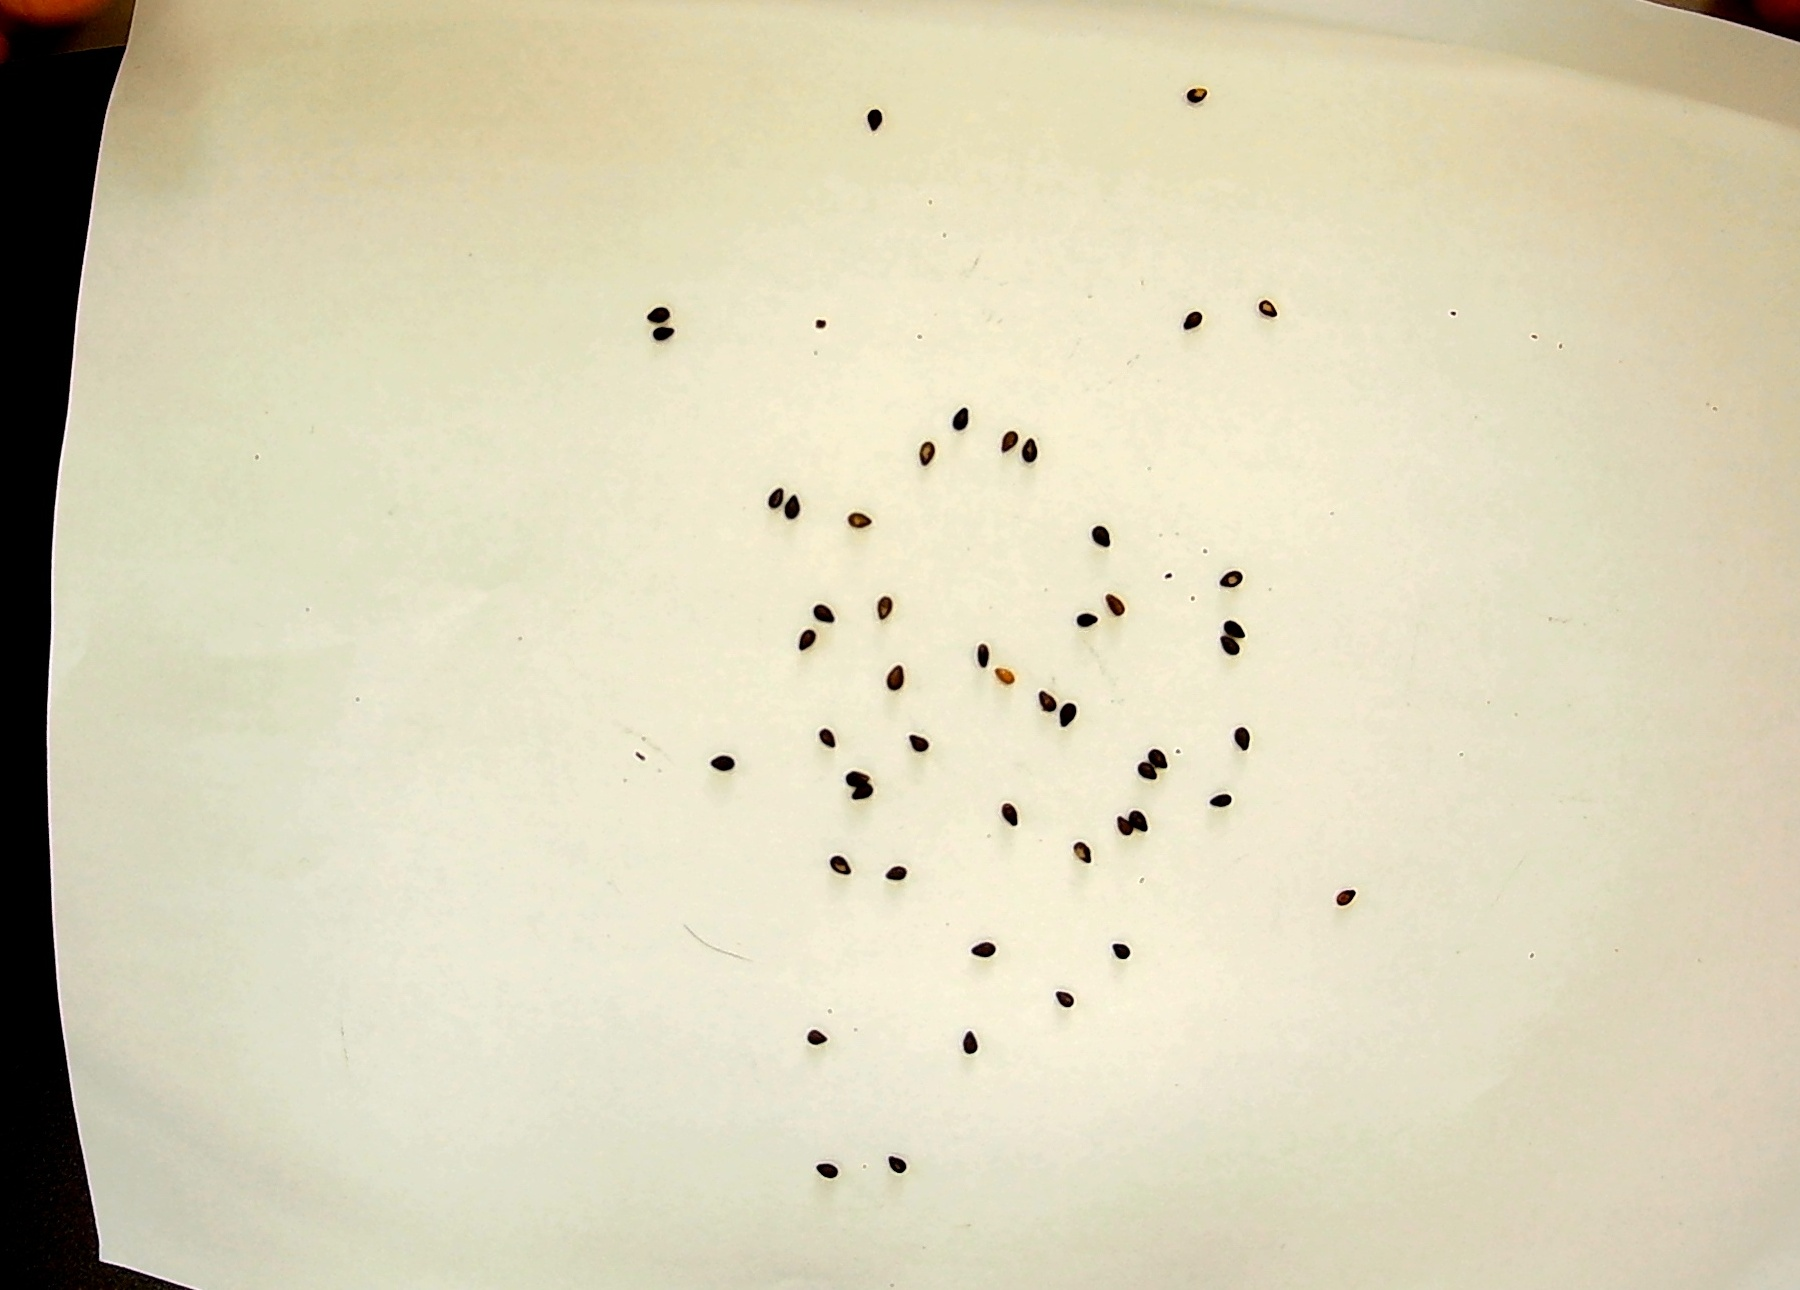sesami: (855, 95, 908, 145), (880, 648, 915, 698), (1067, 599, 1102, 646), (1178, 80, 1211, 127), (880, 856, 922, 894), (1024, 674, 1058, 720), (904, 433, 940, 475), (1053, 840, 1107, 868), (793, 630, 827, 672), (1053, 699, 1090, 737), (846, 504, 885, 539), (882, 1148, 921, 1182), (1215, 637, 1259, 667), (1146, 737, 1185, 771), (787, 489, 818, 531), (707, 750, 747, 782), (1127, 762, 1169, 792), (822, 766, 880, 787), (1107, 934, 1148, 962), (1053, 986, 1086, 1022), (1168, 306, 1207, 334), (897, 730, 933, 759), (1228, 708, 1252, 752), (807, 720, 843, 748), (840, 789, 882, 813), (819, 852, 860, 875), (654, 324, 692, 349), (957, 1025, 987, 1057), (995, 655, 1020, 691), (639, 297, 674, 322), (807, 600, 841, 625), (1207, 785, 1235, 815), (998, 801, 1026, 832), (973, 635, 992, 679), (947, 401, 982, 424), (1222, 616, 1257, 639), (808, 1025, 837, 1053), (1250, 296, 1287, 318), (1000, 430, 1030, 457), (1088, 524, 1113, 554), (1024, 438, 1049, 468), (815, 1155, 840, 1184), (1220, 563, 1245, 592), (1132, 804, 1148, 845), (1333, 887, 1362, 909), (1107, 808, 1132, 833), (973, 940, 996, 966), (873, 588, 893, 618), (1102, 591, 1125, 616), (766, 482, 786, 505)
